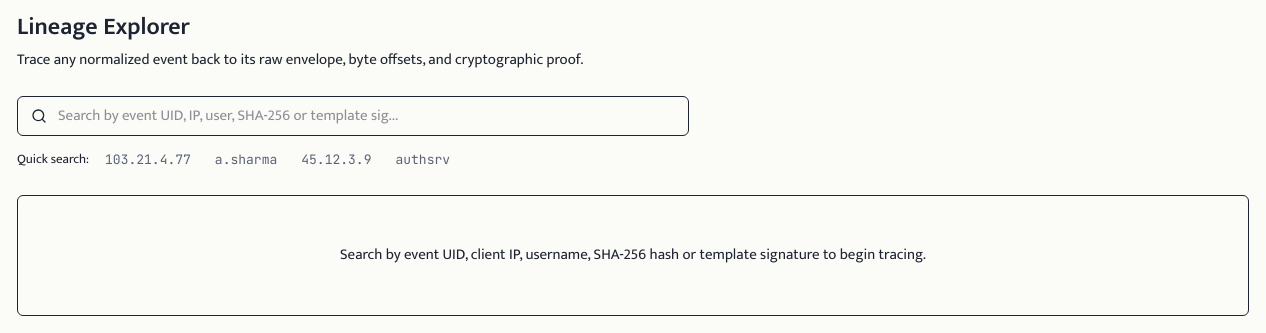
Scenario: LineagePage › says so when nothing matches
Type "no-such-thing" into the search field. click: x=353, y=116
box: [17,96,689,136]
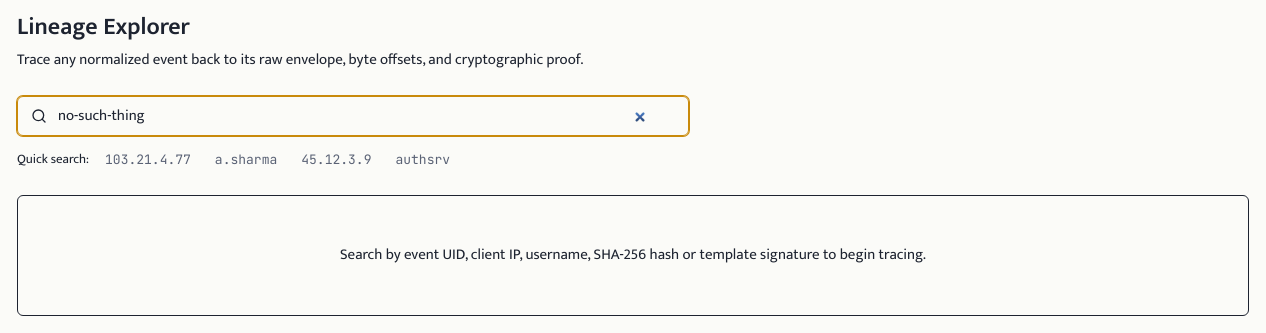
Press Enter
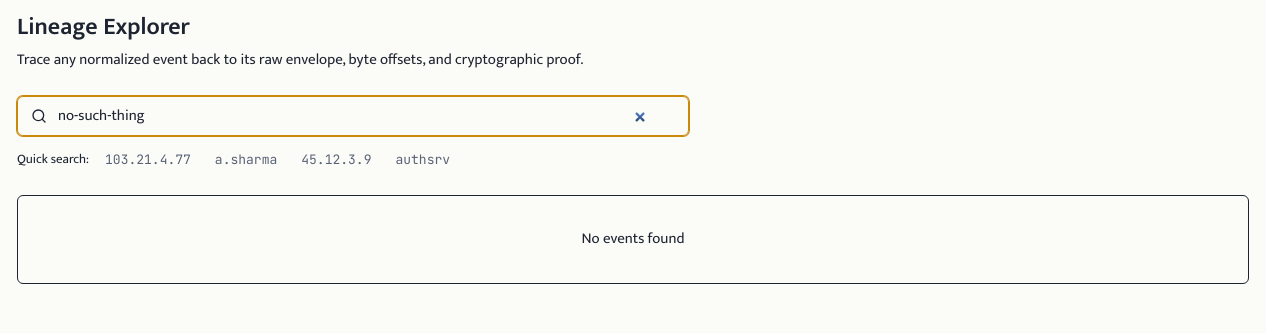
Check: the text "No events found" is shown, box [17,195,1249,284]
